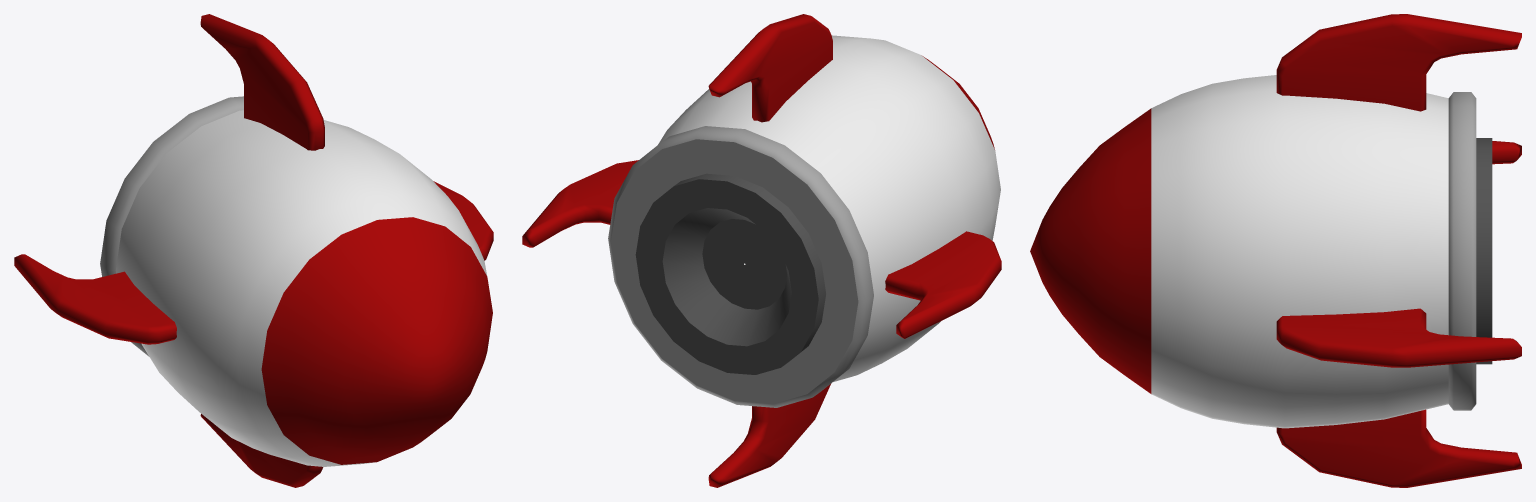
The model's file is Missel_Comum.fbx.
3 renders of one model, left to right at view 1: azimuth 30°, elevation 25°; view 2: azimuth 150°, elevation 25°; view 3: azimuth 270°, elevation 25°, orthographic. The views are drawn at different scales.
Visible parts, largest first — view 1: polySurface5, polySurface2, pCube3, pCube4, polySurface3, pCube1, pCube2; view 2: polySurface5, polySurface6, polySurface3, pCube3, pCube4, pCube1, pCube2; view 3: polySurface5, polySurface2, pCube3, pCube1, pCube2, polySurface3, polySurface6, pCube4.
Part boxes in pixels (x1=…): polySurface5: x1=115, y1=110, x2=486, y2=466; polySurface2: x1=261, y1=217, x2=492, y2=464; pCube3: x1=200, y1=14, x2=324, y2=150; pCube4: x1=14, y1=254, x2=176, y2=344; polySurface3: x1=100, y1=96, x2=323, y2=356; pCube1: x1=200, y1=414, x2=323, y2=487; pCube2: x1=433, y1=181, x2=493, y2=260; polySurface5: x1=658, y1=35, x2=1000, y2=381; polySurface6: x1=635, y1=173, x2=825, y2=374; polySurface3: x1=608, y1=126, x2=873, y2=407; pCube3: x1=708, y1=14, x2=832, y2=122; pCube4: x1=885, y1=231, x2=1001, y2=338; pCube1: x1=708, y1=383, x2=831, y2=487; pCube2: x1=522, y1=160, x2=638, y2=247; polySurface5: x1=1151, y1=75, x2=1448, y2=428; polySurface2: x1=1030, y1=108, x2=1151, y2=393; pCube3: x1=1276, y1=14, x2=1521, y2=111; pCube1: x1=1276, y1=409, x2=1521, y2=487; pCube2: x1=1276, y1=308, x2=1521, y2=367; polySurface3: x1=1448, y1=92, x2=1476, y2=410; polySurface6: x1=1476, y1=138, x2=1492, y2=364; pCube4: x1=1492, y1=141, x2=1521, y2=164.
Size of the model in its own units: 12.62 by 12.62 by 11.97.
